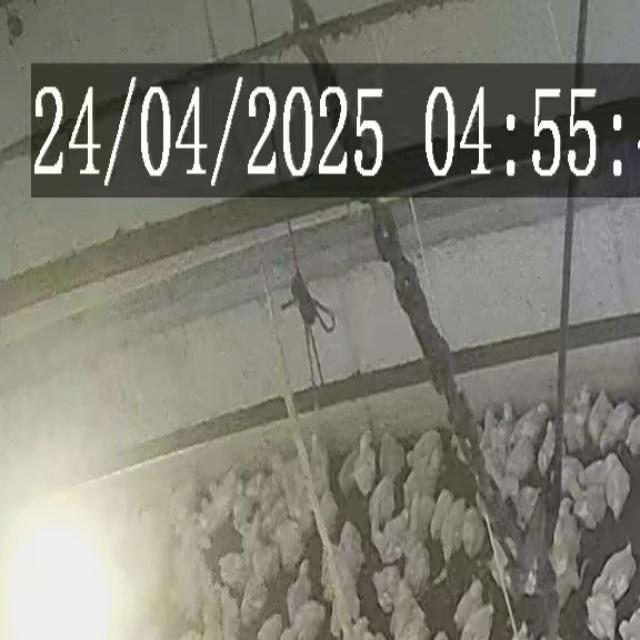chicken: (591, 540, 636, 602), (386, 576, 429, 640), (238, 564, 274, 628), (600, 451, 632, 517), (348, 430, 378, 496), (285, 557, 314, 622), (370, 562, 404, 615), (309, 433, 333, 506), (572, 479, 607, 529), (605, 395, 635, 452), (366, 475, 402, 522), (403, 540, 432, 594), (554, 455, 585, 505), (581, 595, 617, 637), (408, 487, 434, 545), (586, 390, 612, 448), (314, 481, 339, 537), (453, 577, 486, 619), (331, 582, 357, 635), (442, 500, 465, 558), (457, 604, 491, 640), (538, 416, 558, 473), (516, 484, 543, 526), (218, 550, 247, 588), (351, 616, 378, 640)
